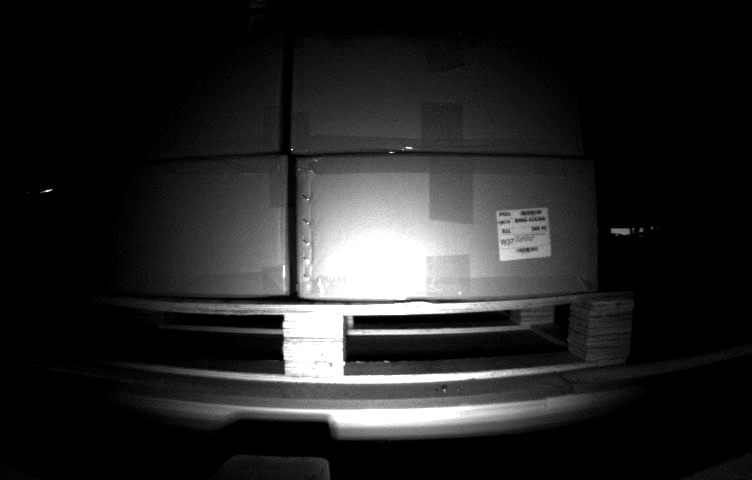True Barcode: (493, 206, 554, 264)
